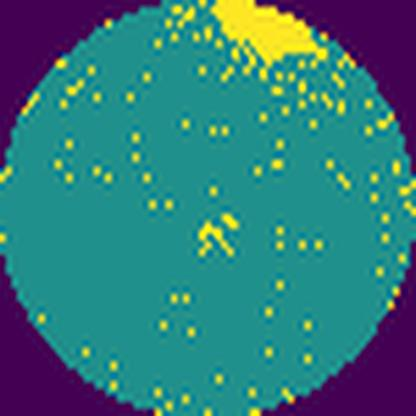Edge-Loc: (206, 0, 336, 76)
